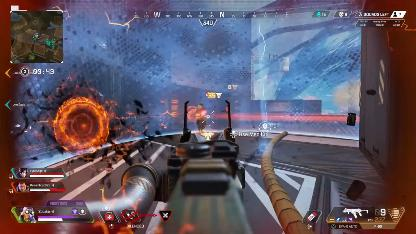Target: (194, 100, 208, 134)
